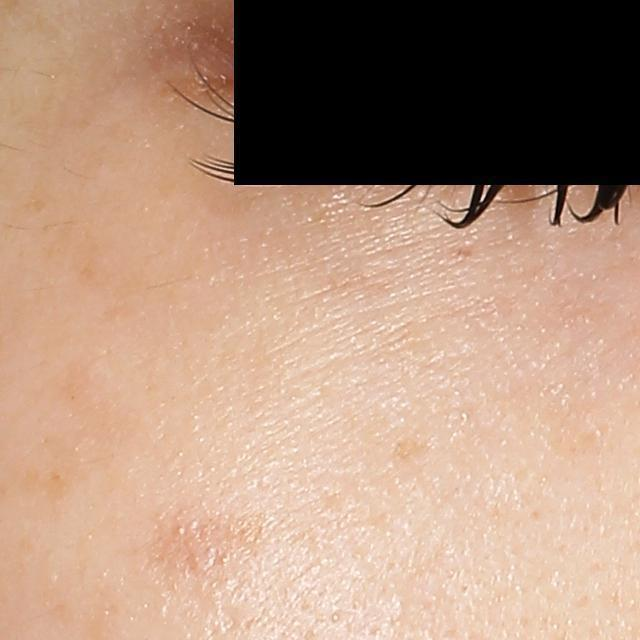melasma: (134, 495, 300, 604), (372, 425, 446, 471)
